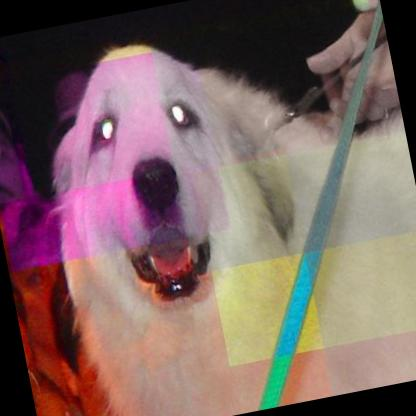Great_Pyrenees: (11, 0, 416, 416)
